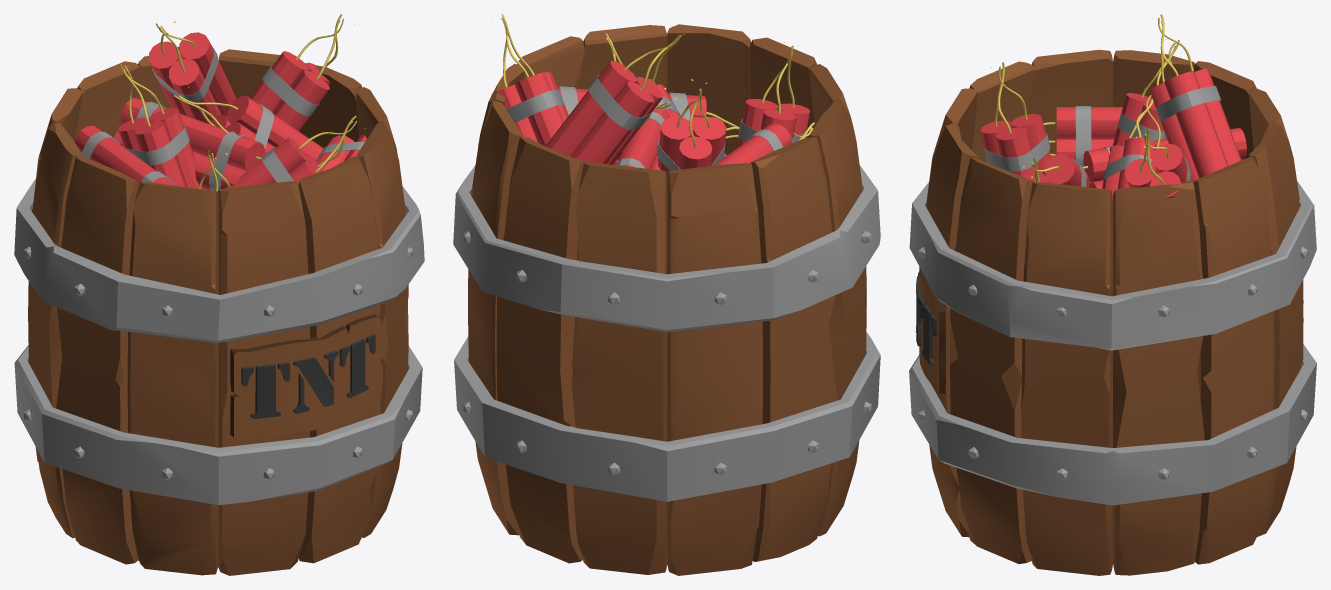
File: BarrelWithTnt.fbx
3 renders of one model, left to right at view 1: azimuth 30°, elevation 25°; view 2: azimuth 150°, elevation 25°; view 3: azimuth 270°, elevation 25°, orthographic. The views are drawn at different scales.
Parts seen in each view (by area): view 1: BarrelWithTNT; view 2: BarrelWithTNT; view 3: BarrelWithTNT.
Part boxes in pixels (box(x1,y1,x2,y2)): BarrelWithTNT: box(14, 14, 424, 575); BarrelWithTNT: box(453, 14, 880, 575); BarrelWithTNT: box(909, 14, 1316, 575).
Size of the model in its own units: 242 by 308 by 240.
